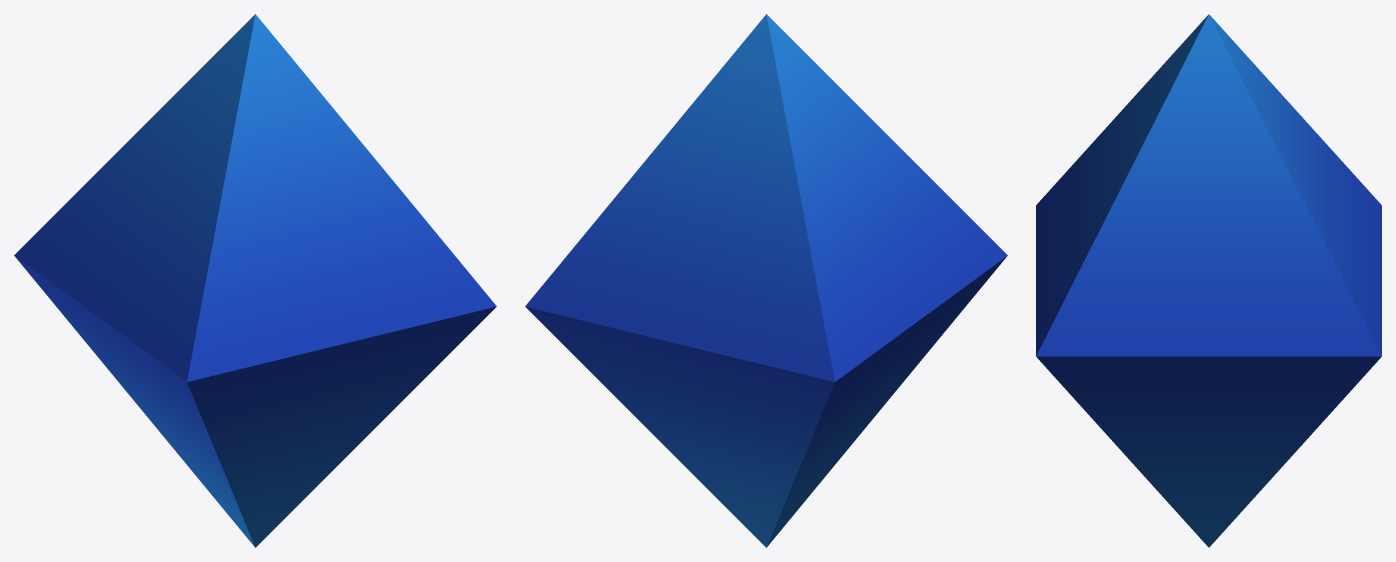
File: blueEnemy.FBX
3 renders of one model, left to right at view 1: azimuth 30°, elevation 25°; view 2: azimuth 150°, elevation 25°; view 3: azimuth 270°, elevation 25°, orthographic.
Visible parts, largest first — view 1: Pyramid001, Pyramid002; view 2: Pyramid001, Pyramid002; view 3: Pyramid001, Pyramid002.
Part boxes in pixels (x1,y1,x2,y2): Pyramid001: (14, 14, 496, 381); Pyramid002: (15, 256, 496, 547); Pyramid001: (525, 14, 1007, 381); Pyramid002: (525, 256, 1006, 547); Pyramid001: (1036, 14, 1381, 356); Pyramid002: (1036, 356, 1381, 547).
Bounding box in the file's own units: 27.18 × 44.76 × 26.28.
1 material, 1 textured.
